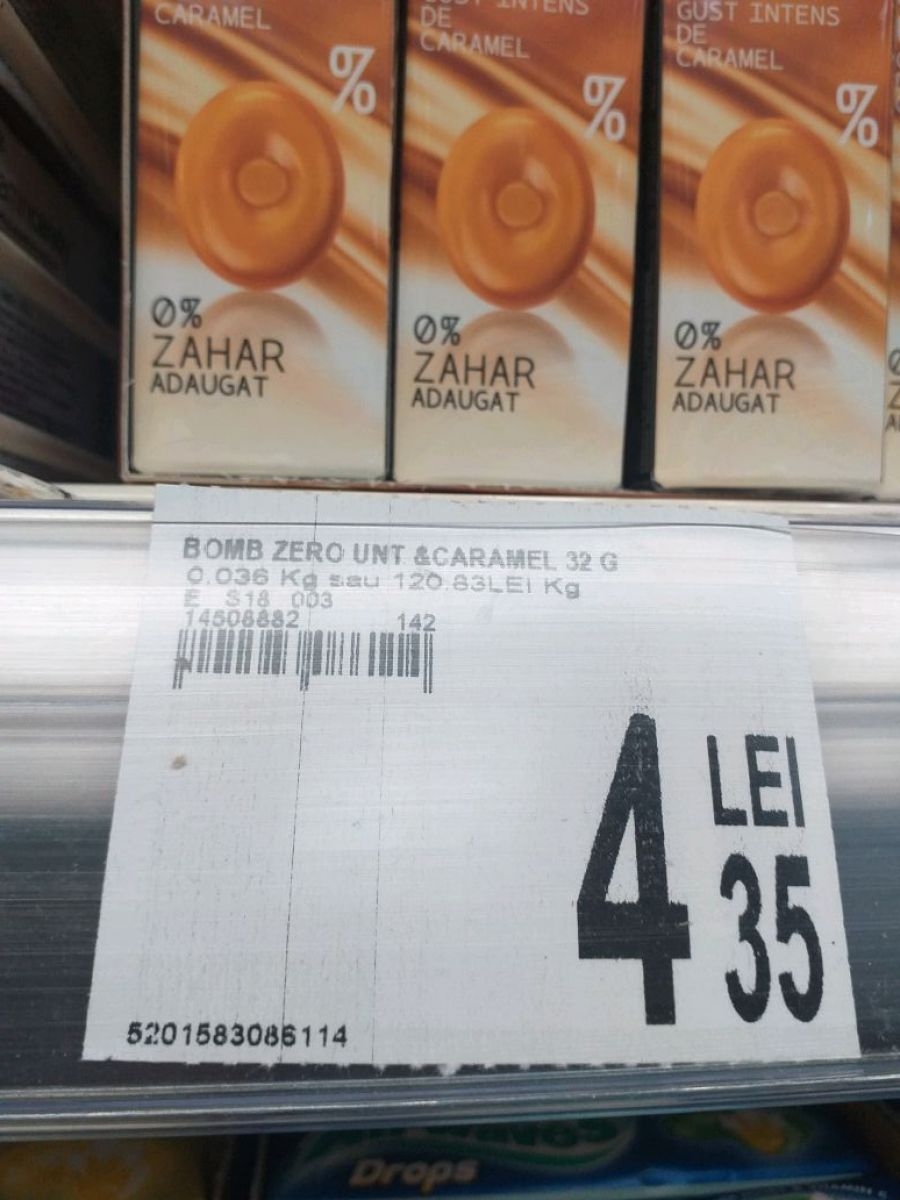bardcode: (128, 1014, 350, 1052)
list: (77, 483, 881, 1071)
name: (176, 532, 628, 579)
price: (546, 706, 841, 1042)
